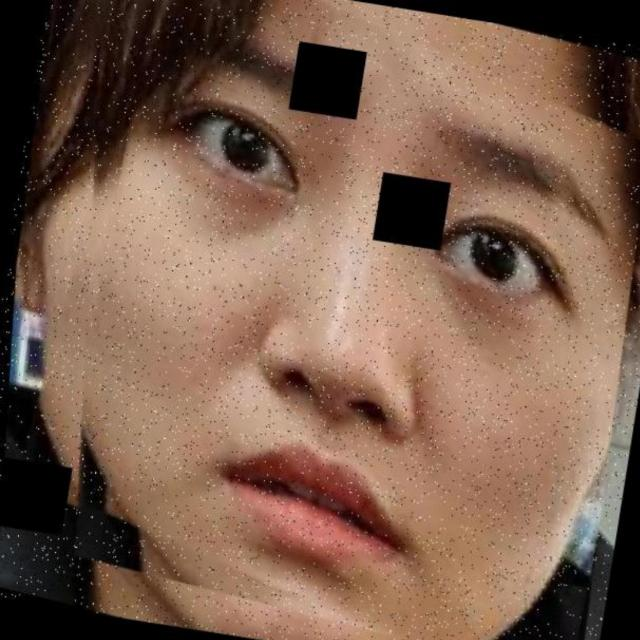Angry: (117, 2, 601, 640)
